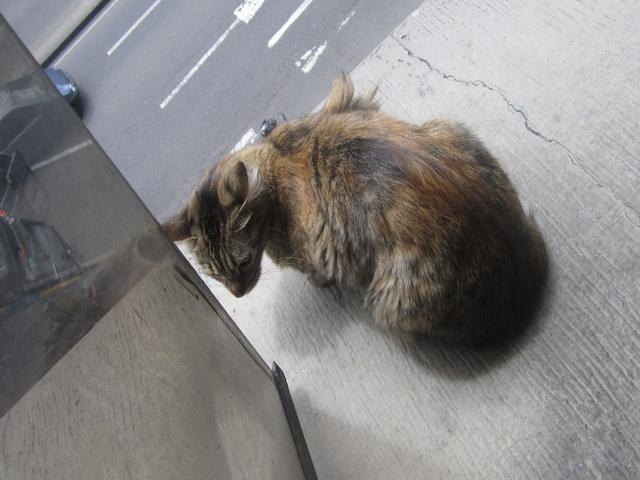cat: (177, 48, 554, 364)
